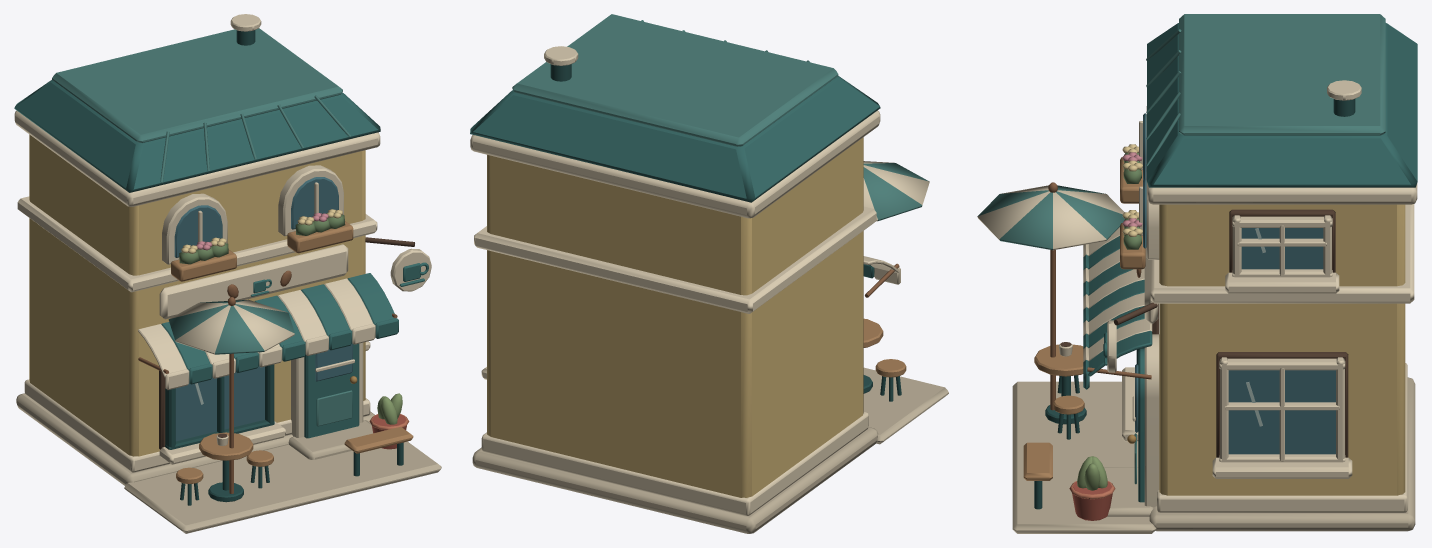
File: cafe_level_3.glb
3 views of the same model, side by side, from view 1: azimuth 30°, elevation 25°; view 2: azimuth 150°, elevation 25°; view 3: azimuth 270°, elevation 25° (orthographic). The views are drawn at different scales.
Parts seen in each view (by area): view 1: cafe_level_3_runtime; view 2: cafe_level_3_runtime; view 3: cafe_level_3_runtime.
Boxes of the visible parts, x1=… form: cafe_level_3_runtime: x1=14, y1=14, x2=441, y2=533; cafe_level_3_runtime: x1=470, y1=14, x2=948, y2=533; cafe_level_3_runtime: x1=977, y1=14, x2=1417, y2=533.
Bounding box in the file's own units: 3.92 × 4.69 × 4.47.
